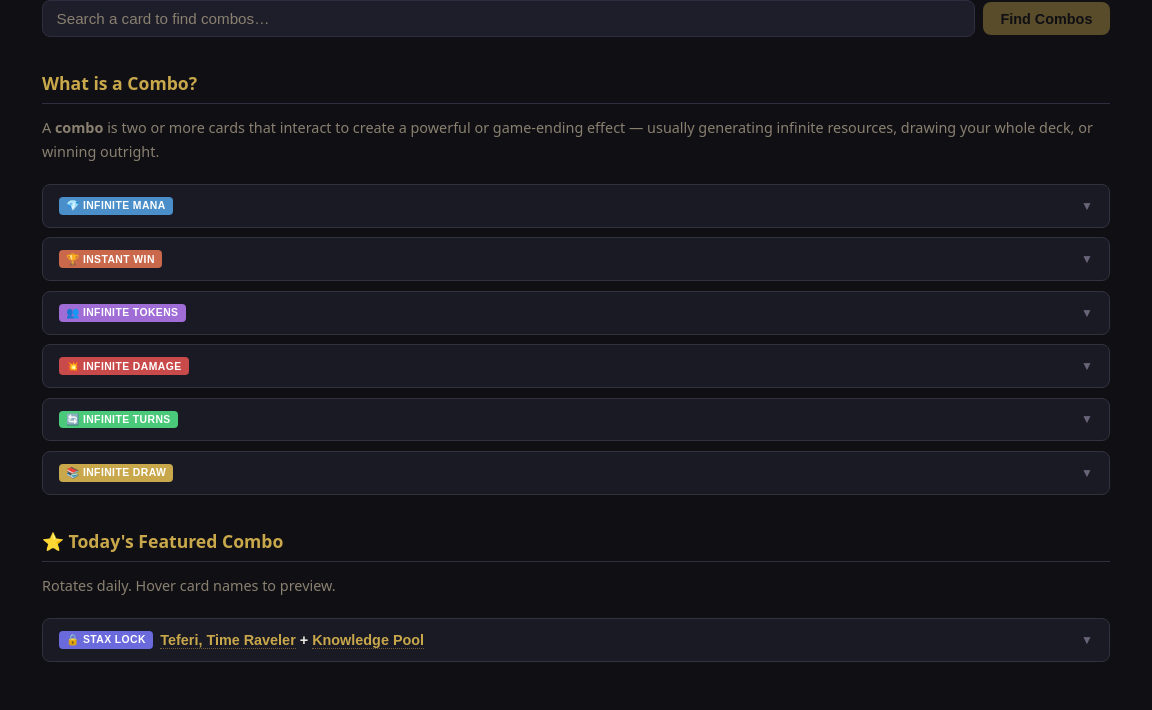
it: Combos page › expanding the daily featured combo shows prerequisites
(page scrolled)
Click the button "🔒 Stax Lock Teferi, Time Raveler + Knowledge Pool ▼": (106, 640) [43,619,1109,661]
(page scrolled)
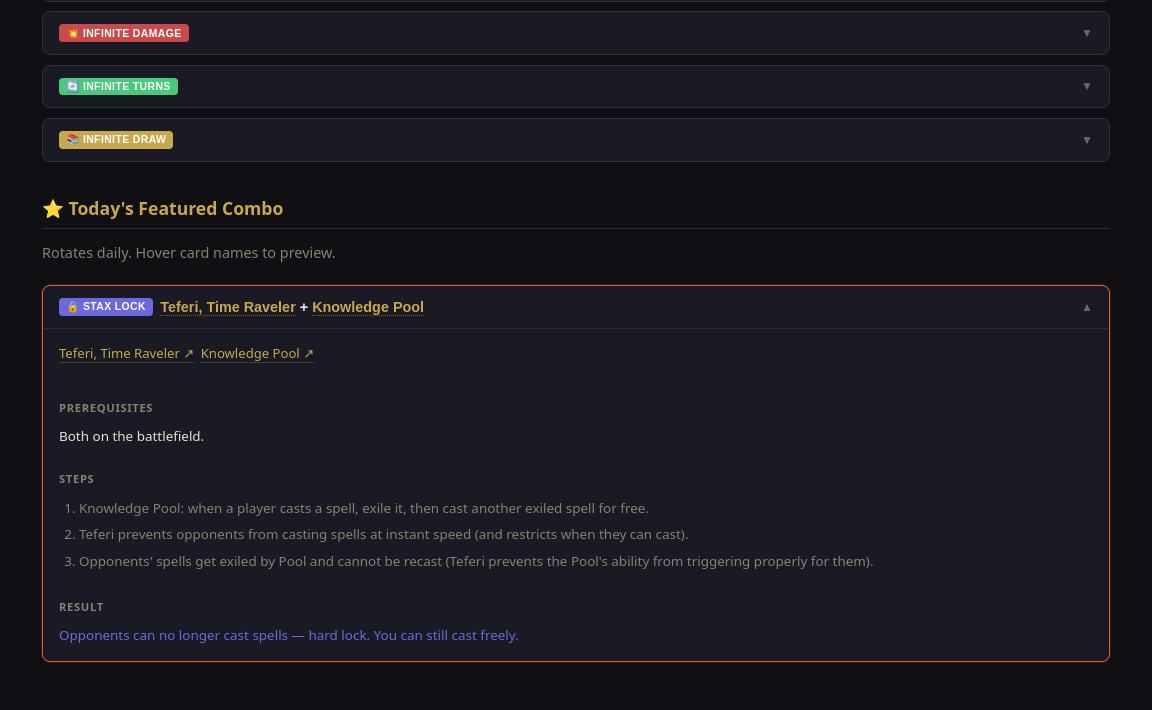
Now the text "Prerequisites" is shown, box [59,400,153,414]
